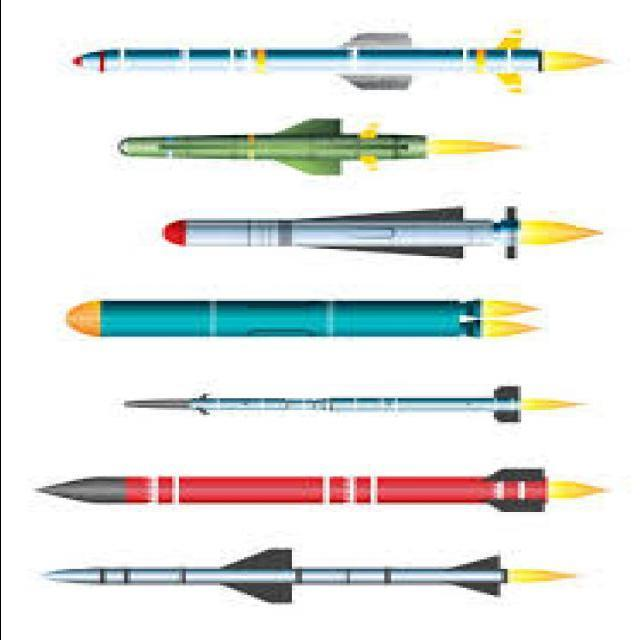missile: (67, 16, 611, 100), (53, 539, 514, 618), (150, 195, 519, 272), (56, 289, 486, 347)
